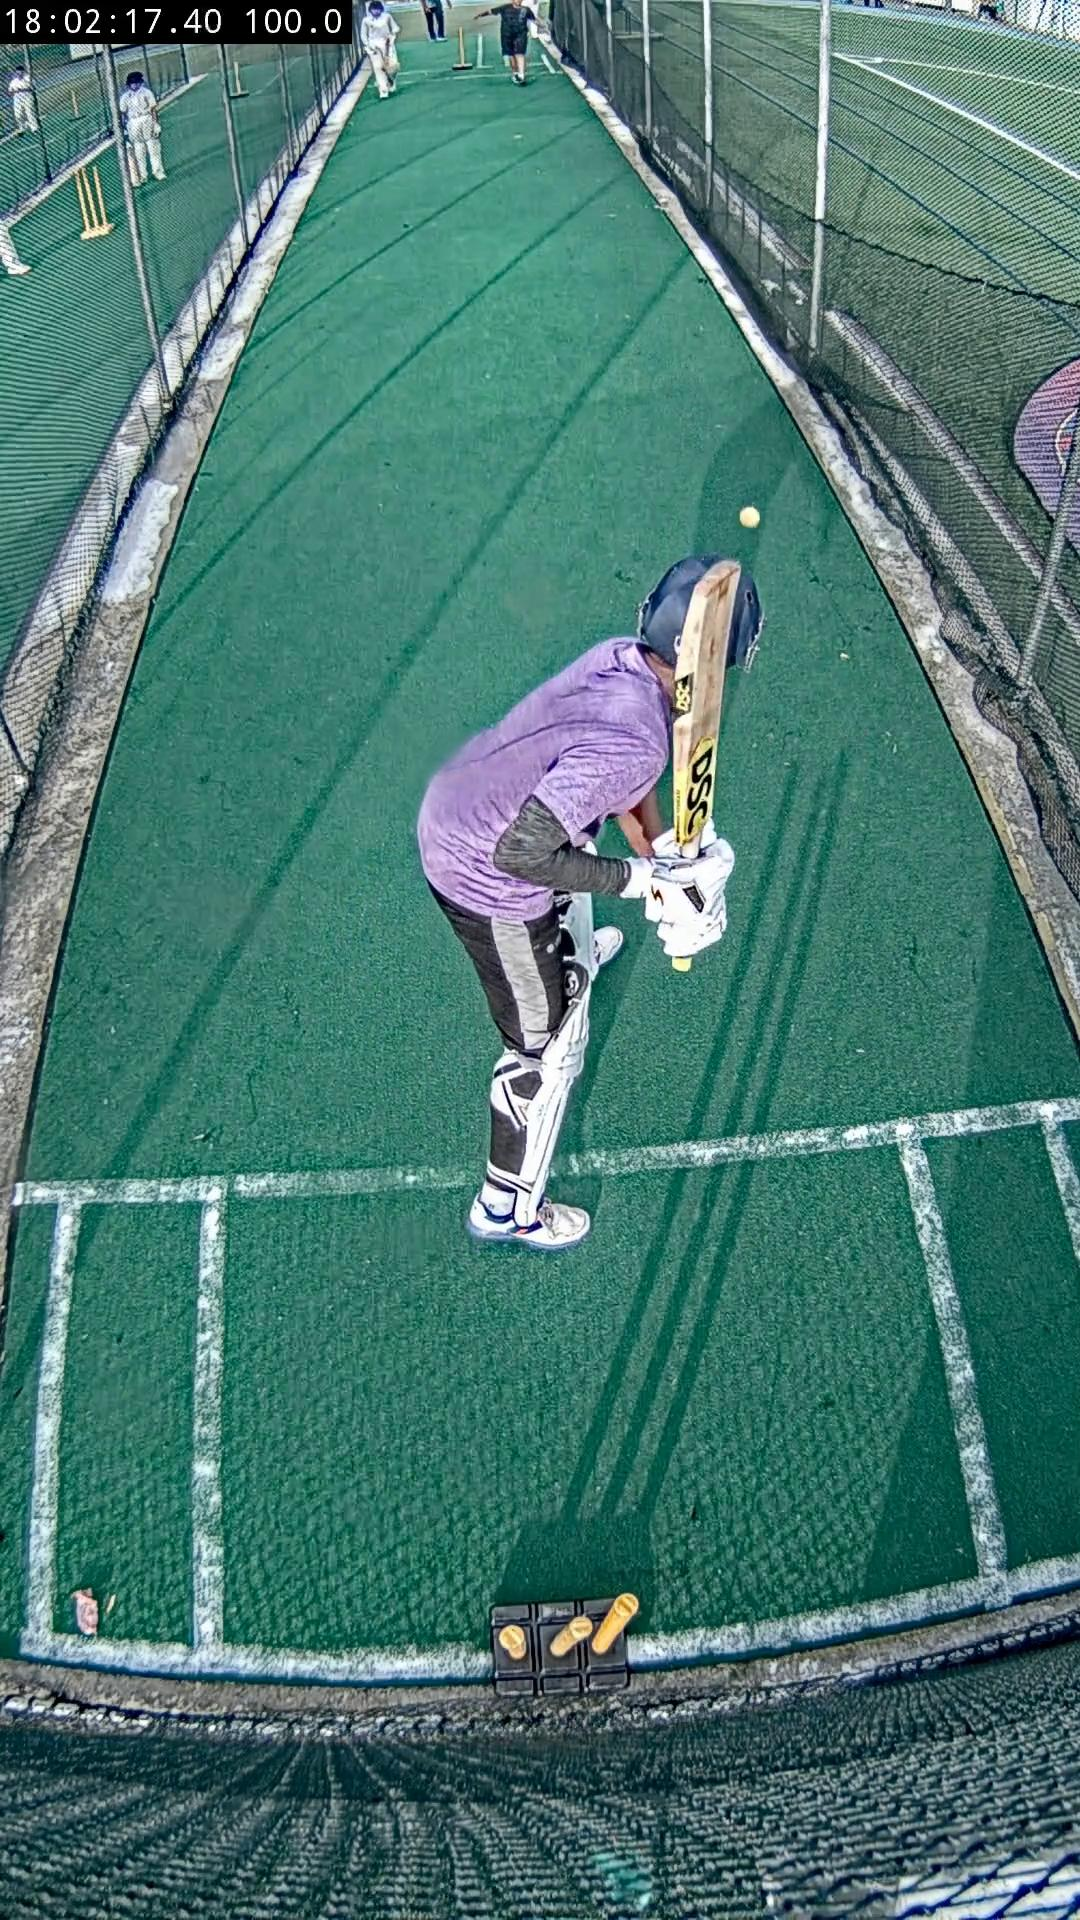ball: (738, 506, 761, 529)
bat: (671, 559, 742, 858)
gloves: (622, 836, 735, 956)
helmet: (637, 555, 720, 663), (728, 574, 765, 671)
pads: (514, 960, 592, 1226), (563, 893, 596, 975)
stumps: (492, 1594, 641, 1695)
